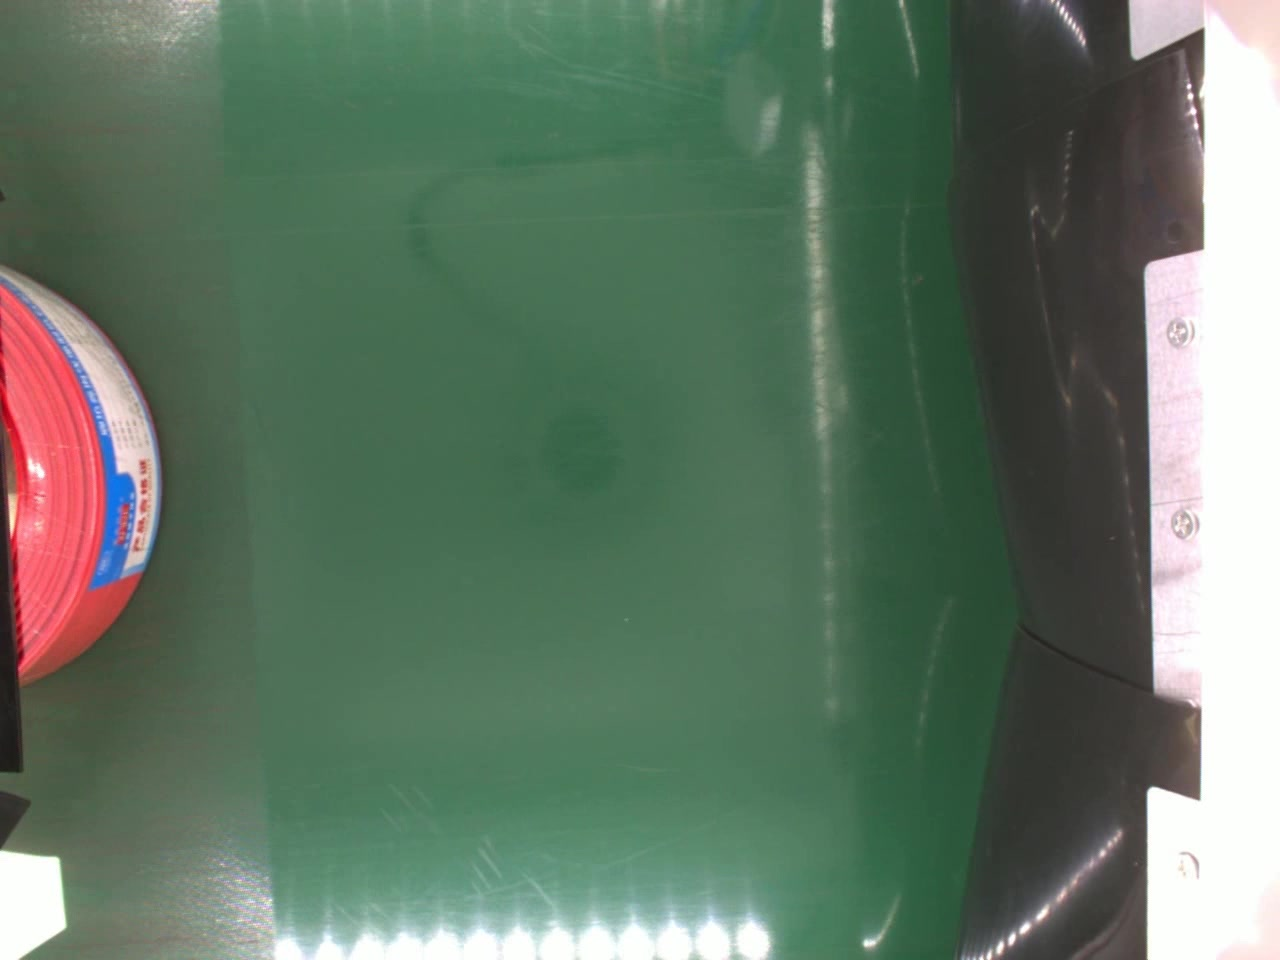red: (0, 257, 158, 679)
